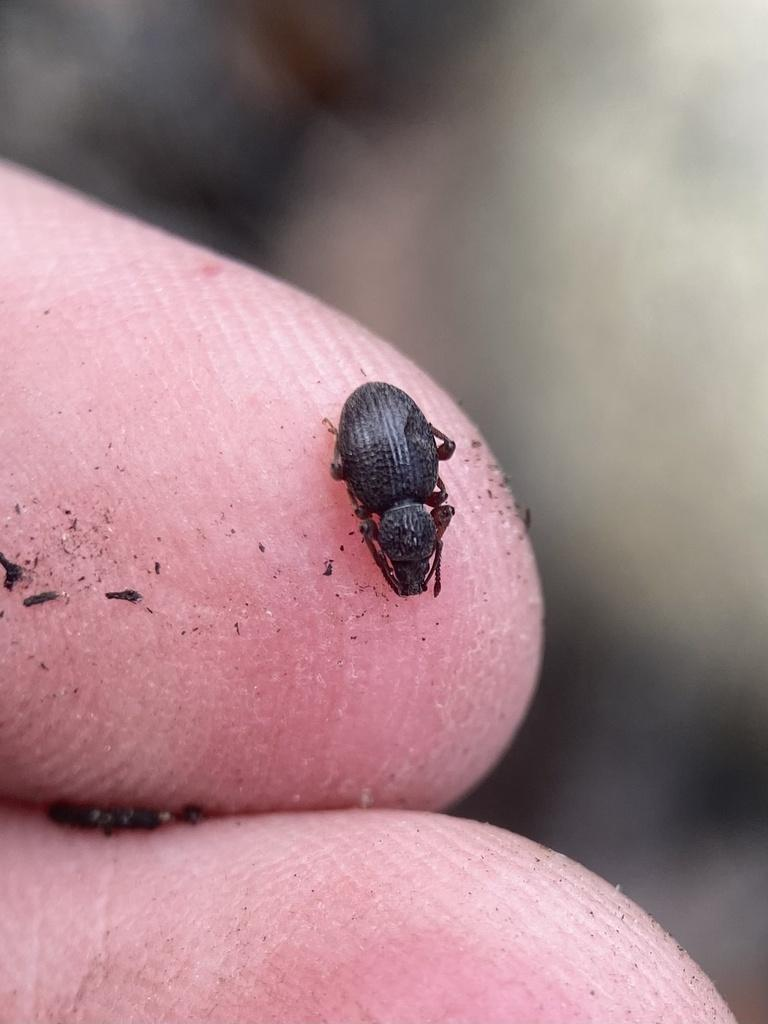weevils: (290, 323, 517, 654)
